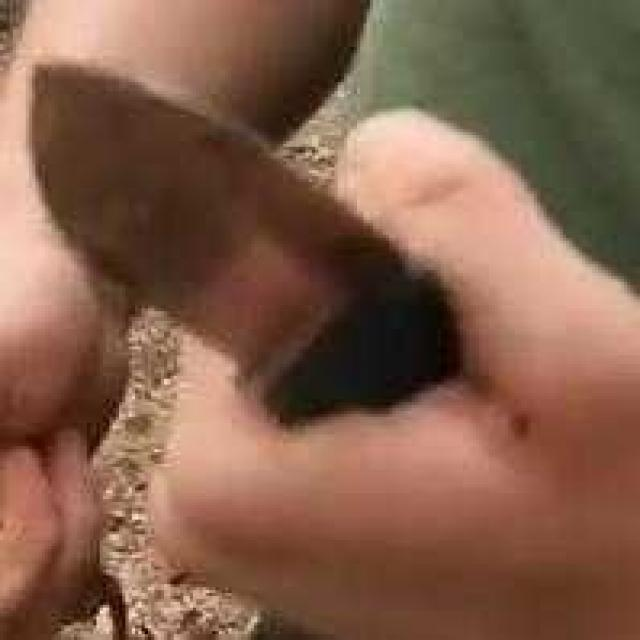knife: (26, 18, 624, 475)
